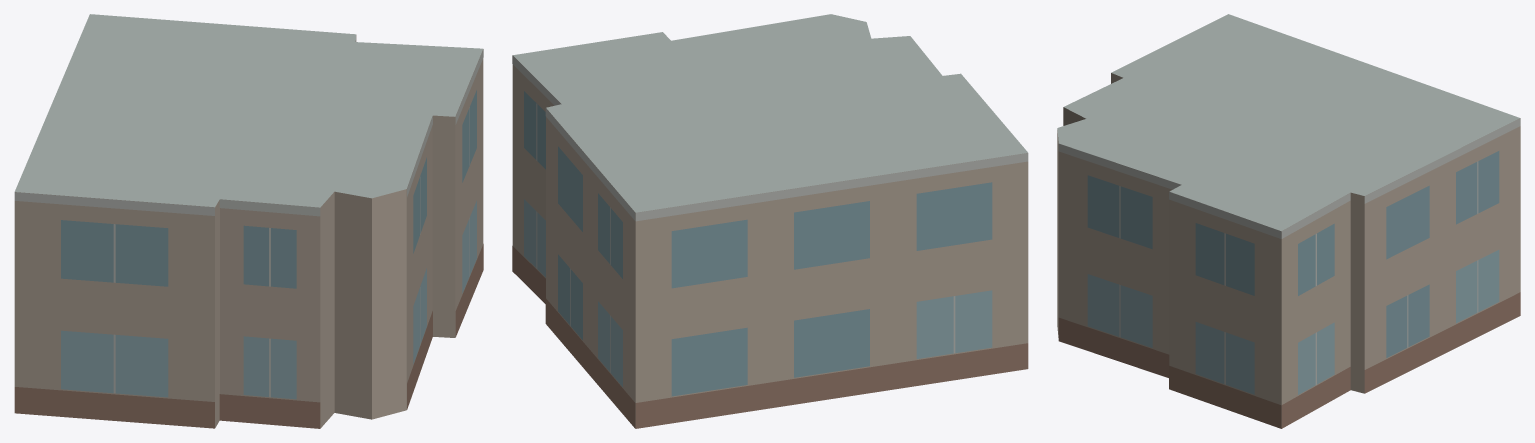
File: survey-upis-32906189.glb
3 views of the same model, side by side, from view 1: azimuth 30°, elevation 25°; view 2: azimuth 150°, elevation 25°; view 3: azimuth 270°, elevation 25° (orthographic). The views are drawn at different scales.
Parts seen in each view (by area): view 1: survey-upis-32906189.tmp; view 2: survey-upis-32906189.tmp; view 3: survey-upis-32906189.tmp.
Boxes of the visible parts, x1,y1,x2,y2 form: survey-upis-32906189.tmp: (14, 14, 483, 428); survey-upis-32906189.tmp: (512, 14, 1028, 428); survey-upis-32906189.tmp: (1057, 14, 1520, 428).
Bounding box in the file's own units: 14.39 × 6.1 × 12.96.
